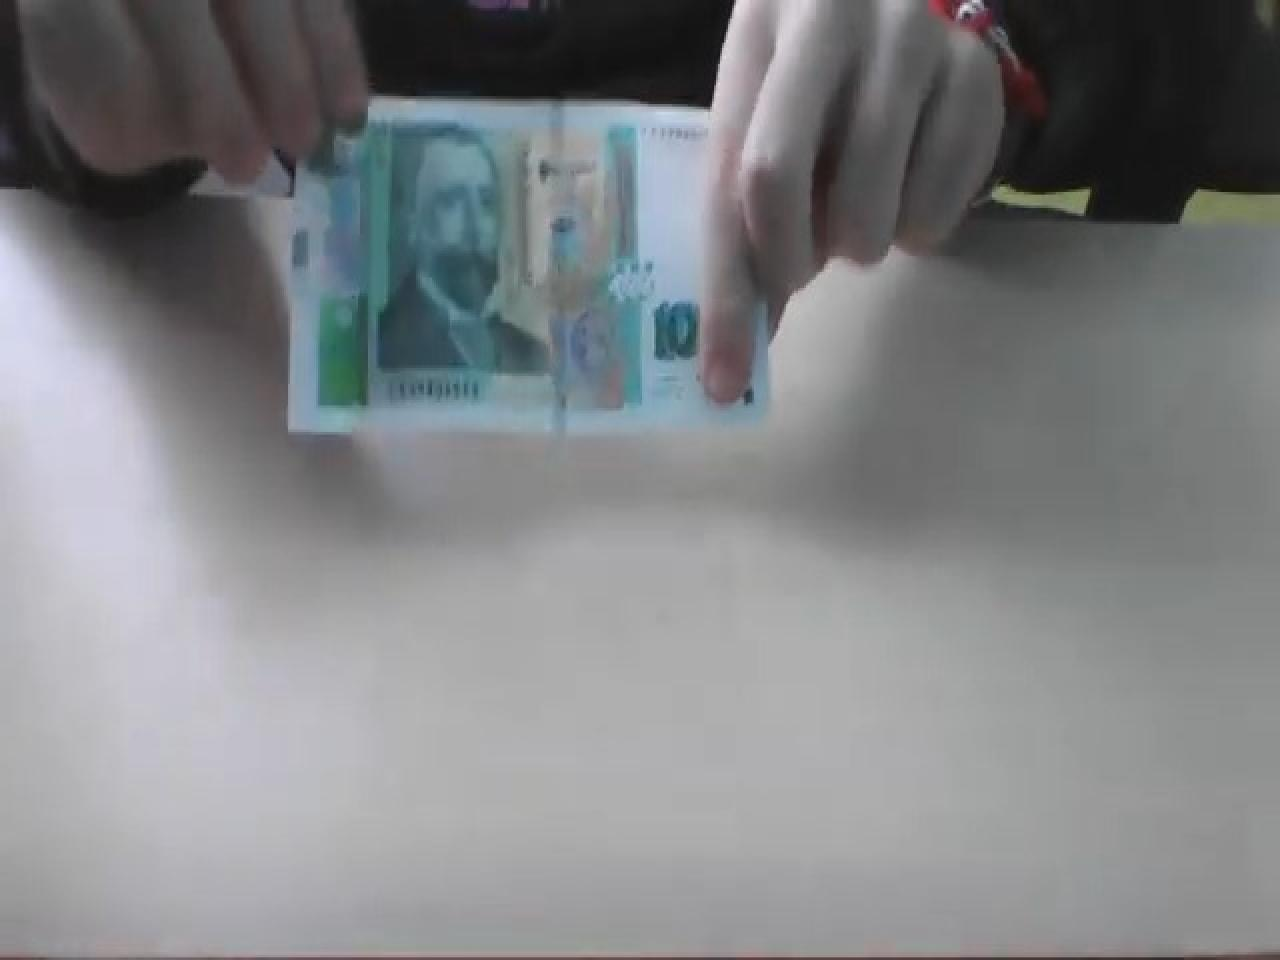100leva: (284, 93, 772, 440)
